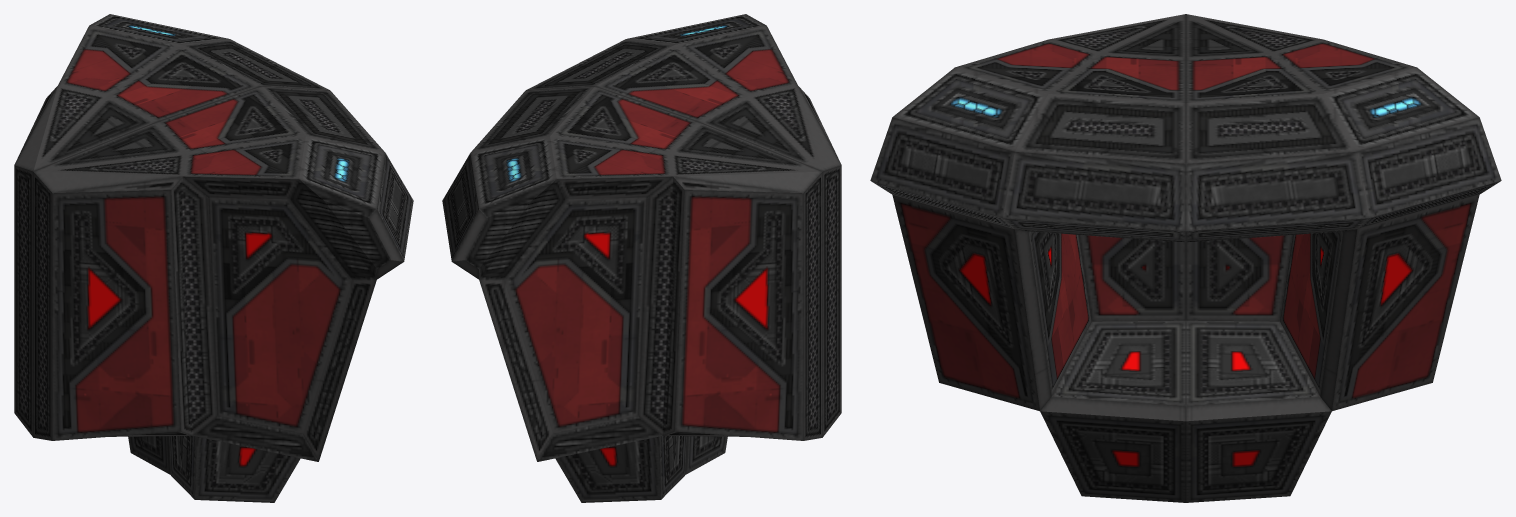
The model's file is BFP_SB_MidHullSection01.FBX.
3 views of the same model, side by side, from view 1: azimuth 30°, elevation 25°; view 2: azimuth 150°, elevation 25°; view 3: azimuth 270°, elevation 25° (orthographic). The views are drawn at different scales.
Parts seen in each view (by area): view 1: BFP_SB_MidHullSection01; view 2: BFP_SB_MidHullSection01; view 3: BFP_SB_MidHullSection01.
Boxes of the visible parts, left/top/right/bottom form: BFP_SB_MidHullSection01: left=14, top=14, right=413, bottom=502; BFP_SB_MidHullSection01: left=442, top=14, right=841, bottom=502; BFP_SB_MidHullSection01: left=870, top=14, right=1501, bottom=502.
Size of the model in its own units: 1077 by 1196 by 1664.
1 material, 1 textured.
